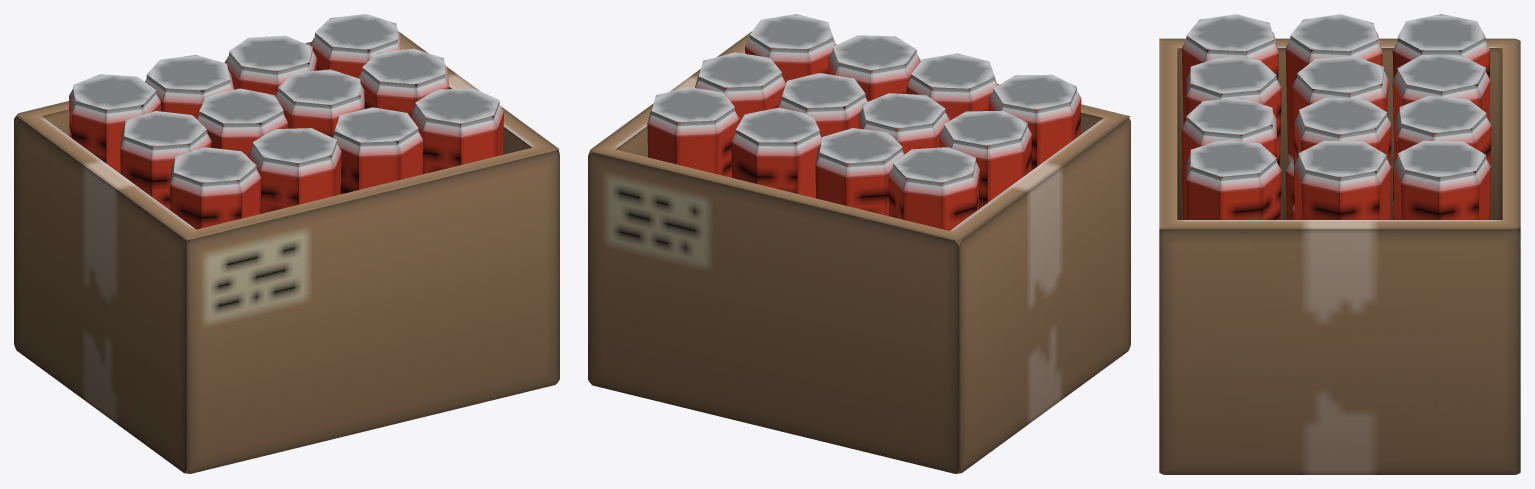
File: RationBox.obj
3 views of the same model, side by side, from view 1: azimuth 30°, elevation 25°; view 2: azimuth 150°, elevation 25°; view 3: azimuth 270°, elevation 25° (orthographic). The views are drawn at different scales.
Visible parts, largest first — view 1: Box, Cans; view 2: Box, Cans; view 3: Box, Cans.
Boxes of the visible parts, x1,y1,x2,y2 form: Box: (14,32,559,473); Cans: (69,14,503,229); Box: (588,31,1130,473); Cans: (647,14,1081,230); Box: (1159,38,1520,474); Cans: (1181,14,1491,219).
Size of the model in its own units: 0.3125 by 0.2156 by 0.25.
2 materials, 2 textured.
